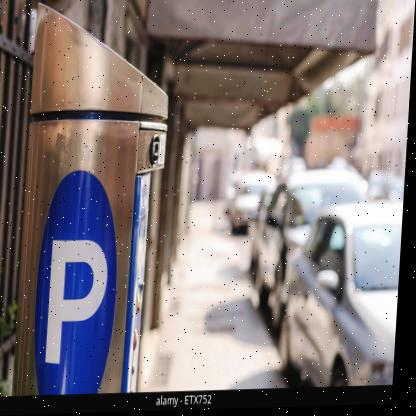Parking: (37, 169, 125, 407)
